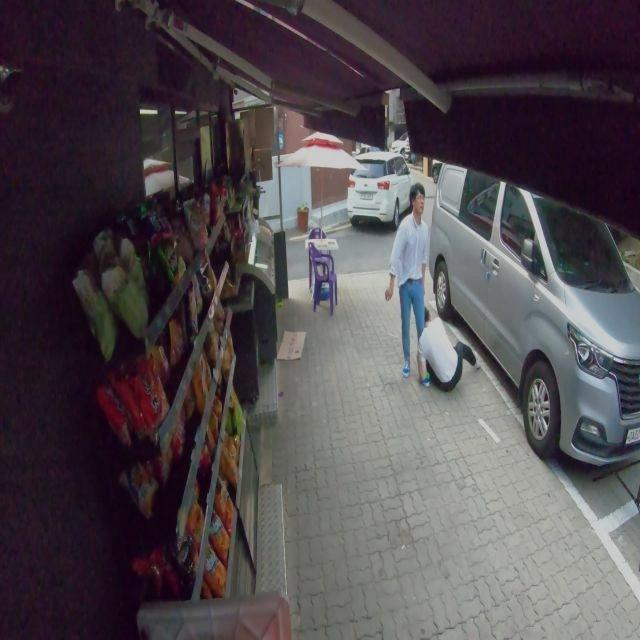fight: (385, 186, 431, 383)
non-fight: (419, 309, 477, 393)
